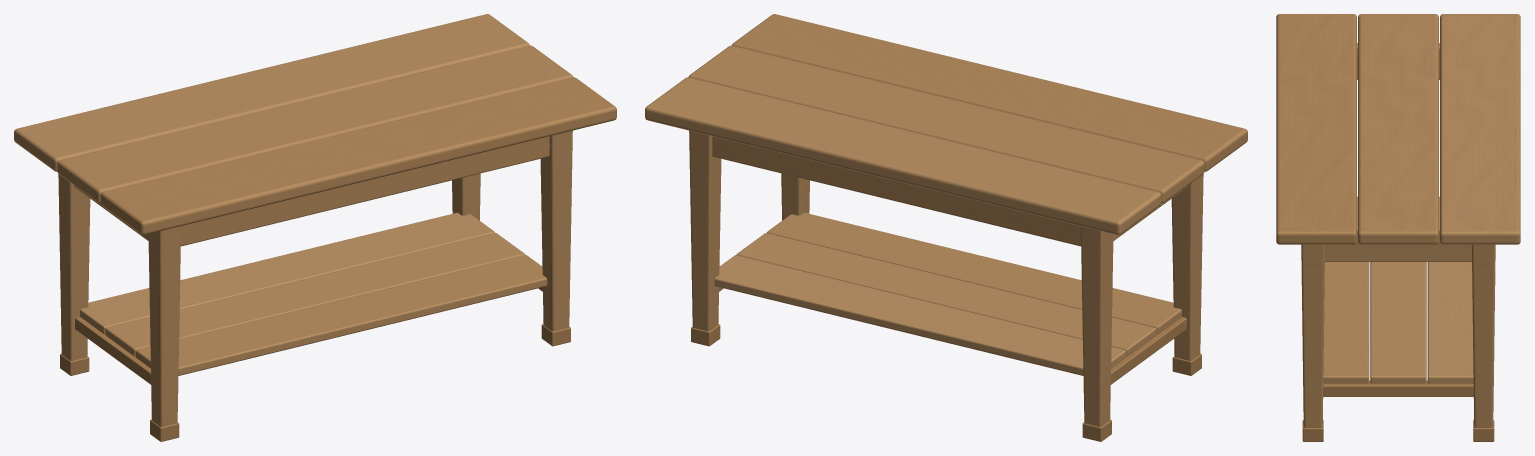
File: table.glb
3 renders of one model, left to right at view 1: azimuth 30°, elevation 25°; view 2: azimuth 150°, elevation 25°; view 3: azimuth 270°, elevation 25°, orthographic. The views are drawn at different scales.
Parts seen in each view (by area): view 1: asset-foundation-v1/table; view 2: asset-foundation-v1/table; view 3: asset-foundation-v1/table.
Boxes of the visible parts, box(x1,y1,x2,y2) form: asset-foundation-v1/table: box(14, 14, 616, 441); asset-foundation-v1/table: box(645, 14, 1247, 441); asset-foundation-v1/table: box(1276, 14, 1520, 441).
Bounding box in the file's own units: 1.86 × 0.8875 × 0.875.
5 materials, 4 textured.
